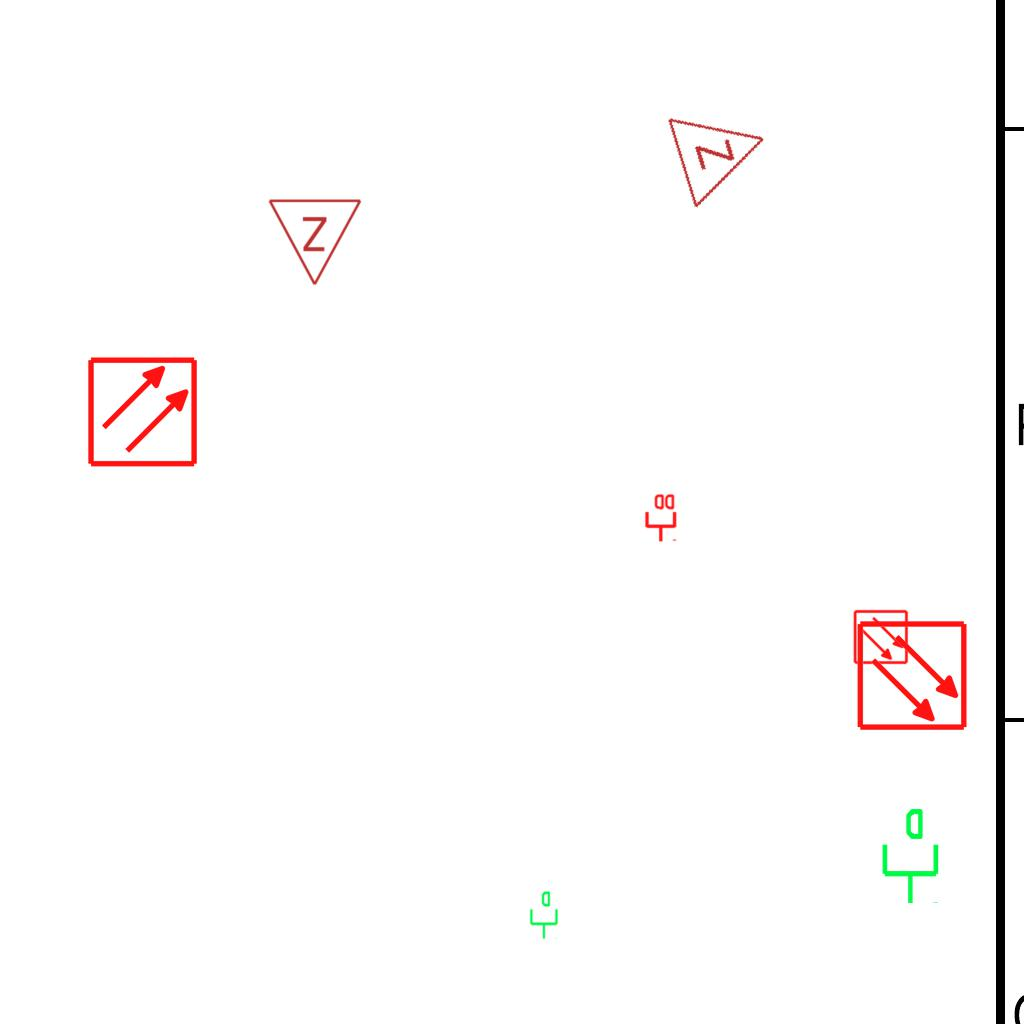Datenanschluss_einfach: (874, 806, 943, 906), (526, 890, 560, 940)
Datenanschluss_zweifach: (643, 492, 677, 543)
RMO_Rauchmelder_optischer: (86, 355, 199, 468), (856, 619, 969, 732), (853, 609, 909, 665)
Zimmersignalleuchte: (659, 88, 785, 212), (267, 192, 365, 292)
